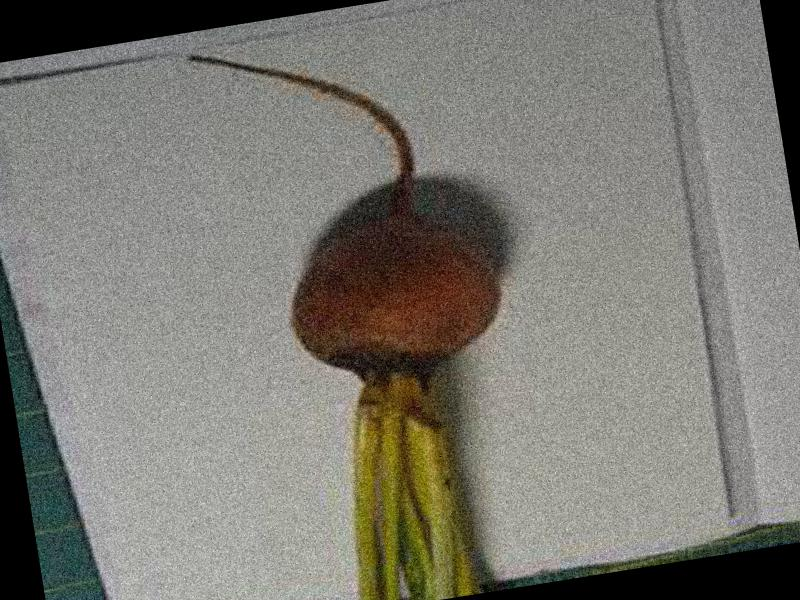Beet: (190, 13, 545, 600)
